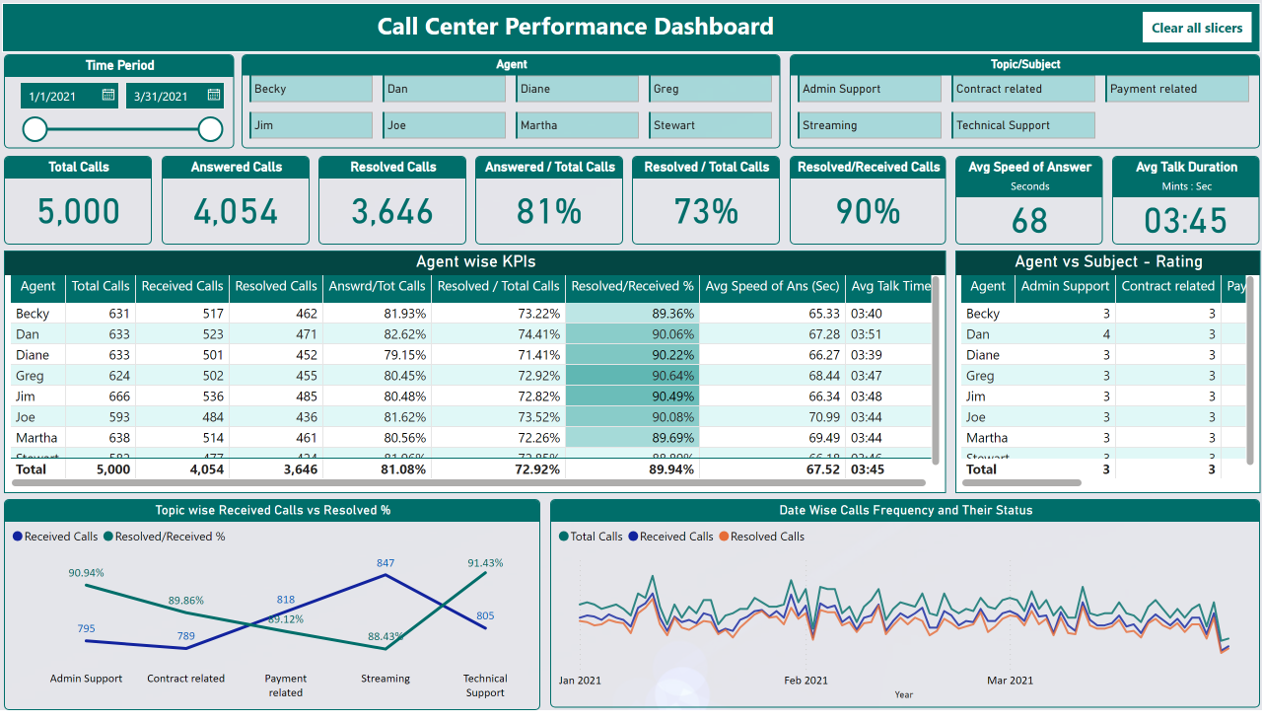

This screenshot's page, from the dashboard's own definition file:
{"tool":"powerbi","page":{"name":"Live HC","canvas":[1280,720],"ordinal":0},"visuals":[{"type":"card","title":"Total Calls","fields":{"Values":["Sheet1.Answered (Y/N)"]},"box":[4.4,157.9,150,90],"z":0},{"type":"textbox","title":"Tu","box":[1.7,2.5,1276.4,50],"z":1000},{"type":"card","title":"Answered Calls","fields":{"Values":["Sheet1.Answered_Calls_Count"]},"box":[163.6,157.9,150,90],"z":2000},{"type":"lineChart","title":"Date Wise Calls Frequency and Their Status","fields":{"Y":["Sheet1.Answered (Y/N)","Sheet1.Answered_Calls_Count","Sheet1.Resolved Calls"],"Category":["Sheet1.Date.Variation.Date Hierarchy.Year","Sheet1.Date.Variation.Date Hierarchy.Month","Sheet1.Date.Variation.Date Hierarchy.Day"]},"box":[558.1,505.9,720,211.6],"z":3000},{"type":"card","title":"Resolved Calls","fields":{"Values":["Sheet1.Resolved Calls"]},"box":[322.9,157.9,150,90],"z":4000},{"type":"advancedSlicerVisual","title":"Topic/Subject","fields":{"Values":["Sheet1.Topic"]},"box":[800.9,55.5,476.9,95.4],"z":5000},{"type":"actionButton","box":[1159.3,11.8,110.4,31.2],"z":6000},{"type":"card","title":"Answered / Total Calls","fields":{"Values":["Sheet1.Answrd wrt Total Calls %"]},"box":[482.2,157.9,150,90],"z":7000},{"type":"card","title":"Resolved / Total Calls","fields":{"Values":["Sheet1.Resolved / Total Calls"]},"box":[641.4,157.9,150,90],"z":8000},{"type":"card","title":"Resolved/Received Calls","fields":{"Values":["Sheet1.Answrd wrt Received %"]},"box":[800.7,158,158.7,90],"z":9000},{"type":"card","title":"Avg Speed of Answer ","fields":{"Values":["Sheet1.Speed of answer in seconds"]},"box":[968.5,158,149.7,90],"z":10000},{"type":"card","title":"Avg Talk Duration","fields":{"Values":["Sheet1.Avg_Talk_Duration_Format"]},"box":[1128.1,158,149.7,90],"z":11000},{"type":"tableEx","title":"Agent wise KPIs","fields":{"Values":["Sheet1.Agent","Sheet1.Answered (Y/N)","Sheet1.Answered_Calls_Count","Sheet1.Resolved Calls","Sheet1.Answrd wrt Total Calls %","Sheet1.Resolved / Total Calls","Sheet1.Resolved/Received %","Sheet1.Speed of answer in seconds","Sheet1.Avg_Talk_Duration_Format"]},"box":[4.1,254.3,955.5,246],"z":12000},{"type":"slicer","title":"Time Period","fields":{"Values":["Sheet1.Date"]},"box":[4.1,55.5,233.5,95.4],"z":13000},{"type":"lineChart","title":"Topic wise Received Calls vs Resolved %","fields":{"Category":["Sheet1.Topic"],"Y2":["Sheet1.Resolved/Received %"],"Y":["Sheet1.Answered_Calls_Count"]},"box":[4.2,505.9,543.8,214.1],"z":14000},{"type":"pivotTable","title":"Agent vs Subject - Rating","fields":{"Rows":["Sheet1.Agent"],"Columns":["Sheet1.Topic"],"Values":["Sheet1.Satisfaction rating"]},"box":[968.5,254.3,309.3,246],"z":15000},{"type":"advancedSlicerVisual","title":"Agent","fields":{"Values":["Sheet1.Agent"]},"box":[244.7,55.5,546.4,95.4],"z":16000},{"type":"textbox","box":[14.3,4.2,1139.9,47.2],"z":17000}]}

Visuals, with their boxes in screenshot pixels (x1, y1, x2, y2), scaled from the page's 1280x720 canvas onto the 1262x720 screenshot:
"Total Calls" card: [4,158,152,248]
"Tu" textbox: [2,2,1260,52]
"Answered Calls" card: [161,158,309,248]
"Date Wise Calls Frequency and Their Status" lineChart: [550,506,1260,718]
"Resolved Calls" card: [318,158,466,248]
"Topic/Subject" advancedSlicerVisual: [790,56,1260,151]
actionButton: [1143,12,1252,43]
"Answered / Total Calls" card: [475,158,623,248]
"Resolved / Total Calls" card: [632,158,780,248]
"Resolved/Received Calls" card: [789,158,946,248]
"Avg Speed of Answer " card: [955,158,1102,248]
"Avg Talk Duration" card: [1112,158,1260,248]
"Agent wise KPIs" tableEx: [4,254,946,500]
"Time Period" slicer: [4,56,234,151]
"Topic wise Received Calls vs Resolved %" lineChart: [4,506,540,719]
"Agent vs Subject - Rating" pivotTable: [955,254,1260,500]
"Agent" advancedSlicerVisual: [241,56,780,151]
textbox: [14,4,1138,51]
